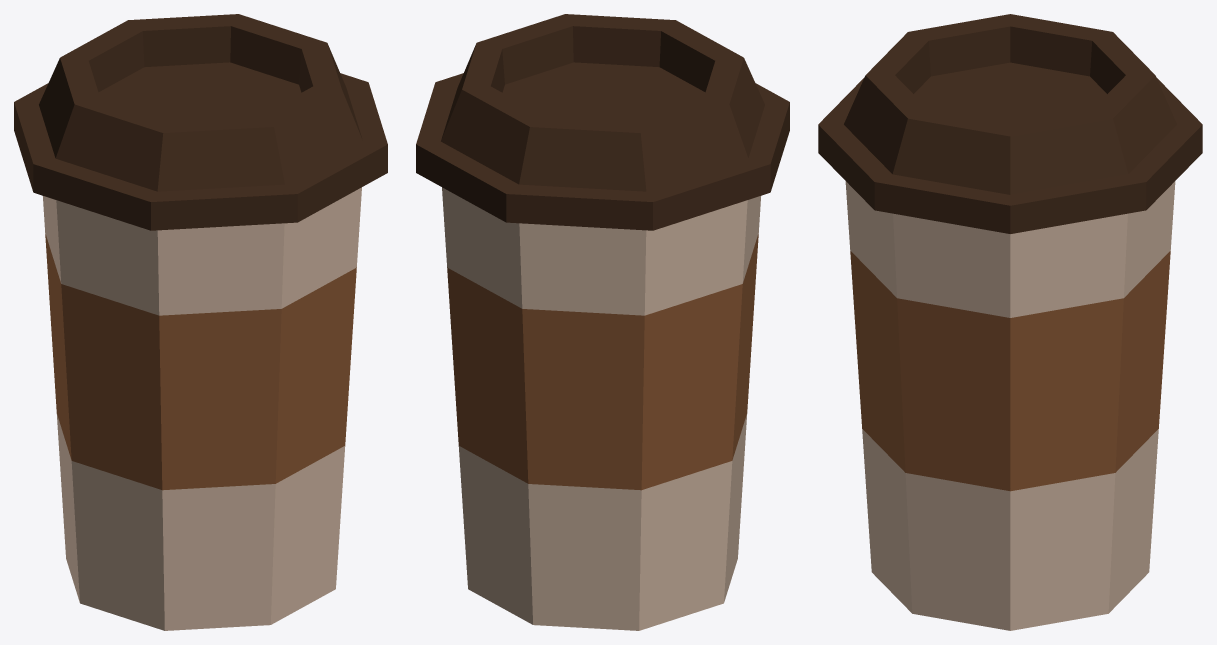
File: cup_starbuck.fbx
3 renders of one model, left to right at view 1: azimuth 30°, elevation 25°; view 2: azimuth 150°, elevation 25°; view 3: azimuth 270°, elevation 25°, orthographic.
Parts seen in each view (by area): view 1: cup_starbuck; view 2: cup_starbuck; view 3: cup_starbuck.
Boxes of the visible parts, x1,y1,x2,y2 form: cup_starbuck: (14, 14, 387, 630); cup_starbuck: (416, 14, 789, 630); cup_starbuck: (818, 14, 1202, 630).
Bounding box in the file's own units: 19.62 × 27.99 × 19.62.
1 material, 1 textured.
